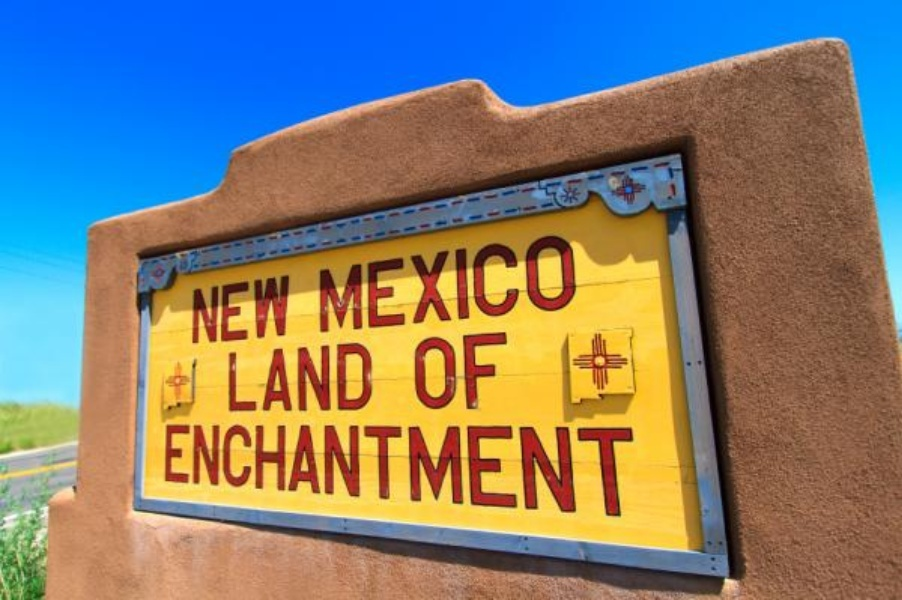text: (321, 228, 336, 334), (337, 228, 352, 334), (353, 228, 368, 334), (369, 228, 384, 334), (385, 228, 400, 334), (401, 228, 416, 334), (417, 228, 432, 334), (433, 228, 448, 334), (449, 228, 464, 334), (465, 228, 480, 334), (481, 228, 496, 334), (497, 228, 512, 334), (513, 228, 528, 334), (529, 228, 544, 334), (545, 228, 560, 334), (561, 228, 576, 334), (177, 422, 192, 518), (193, 422, 208, 518), (209, 422, 224, 518), (225, 422, 240, 518), (241, 422, 256, 518), (257, 422, 272, 518), (273, 422, 288, 518), (289, 422, 304, 518), (305, 422, 320, 518), (321, 422, 336, 518), (337, 422, 352, 518), (353, 422, 368, 518), (369, 422, 384, 518), (385, 422, 400, 518), (401, 422, 416, 518), (417, 422, 432, 518), (433, 422, 448, 518), (449, 422, 464, 518), (465, 422, 480, 518), (481, 422, 496, 518), (497, 422, 512, 518), (513, 422, 528, 518), (529, 422, 544, 518), (545, 422, 560, 518), (561, 422, 576, 518), (577, 422, 592, 518), (593, 422, 608, 518), (609, 422, 624, 518), (163, 422, 176, 518), (417, 331, 432, 410), (433, 331, 448, 410), (449, 331, 464, 410), (465, 331, 480, 410), (481, 331, 496, 410), (241, 340, 256, 413), (257, 340, 272, 413), (273, 340, 288, 413), (289, 340, 304, 413), (305, 340, 320, 413), (321, 340, 336, 413), (337, 340, 352, 413), (353, 340, 368, 413), (625, 422, 636, 518), (193, 273, 208, 343), (209, 273, 224, 343), (225, 273, 240, 343), (241, 273, 256, 343), (257, 273, 272, 343), (273, 273, 288, 343), (497, 331, 509, 410), (228, 340, 240, 413), (412, 331, 416, 410), (369, 340, 373, 413), (289, 273, 291, 343), (319, 228, 320, 334), (191, 273, 192, 343)
